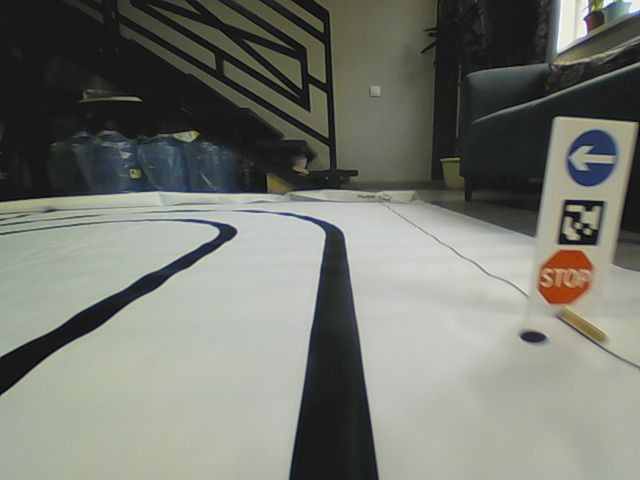Stop: (534, 248, 596, 308)
